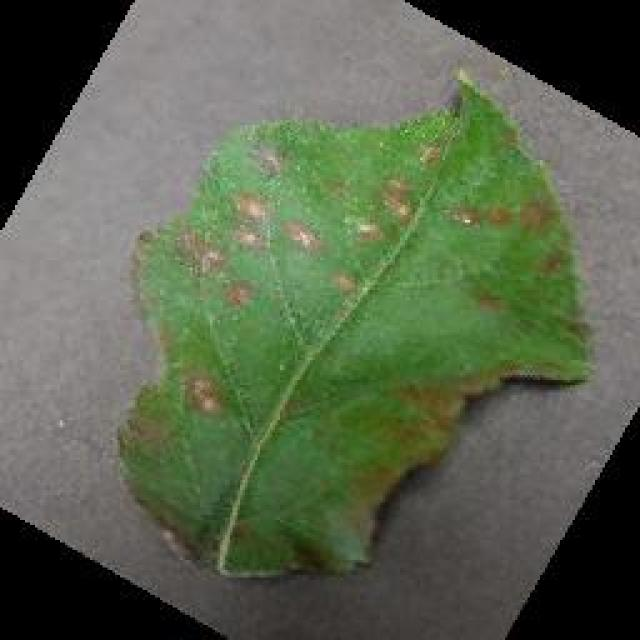apple healthy: (113, 65, 595, 580)
